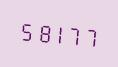eight: (34, 17, 49, 46)
five: (18, 16, 33, 44)
one: (50, 19, 65, 47)
seven: (66, 20, 81, 48), (82, 22, 97, 50)
